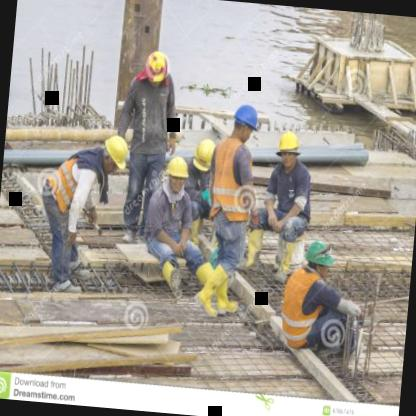helmet: (301, 235, 338, 274), (230, 100, 262, 145), (190, 134, 218, 182), (101, 134, 132, 176), (274, 127, 303, 170), (164, 153, 190, 195), (144, 47, 171, 86)
